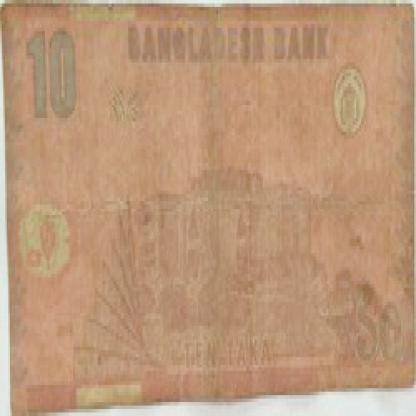Ten Taka: (23, 27, 85, 132), (348, 298, 408, 371)
